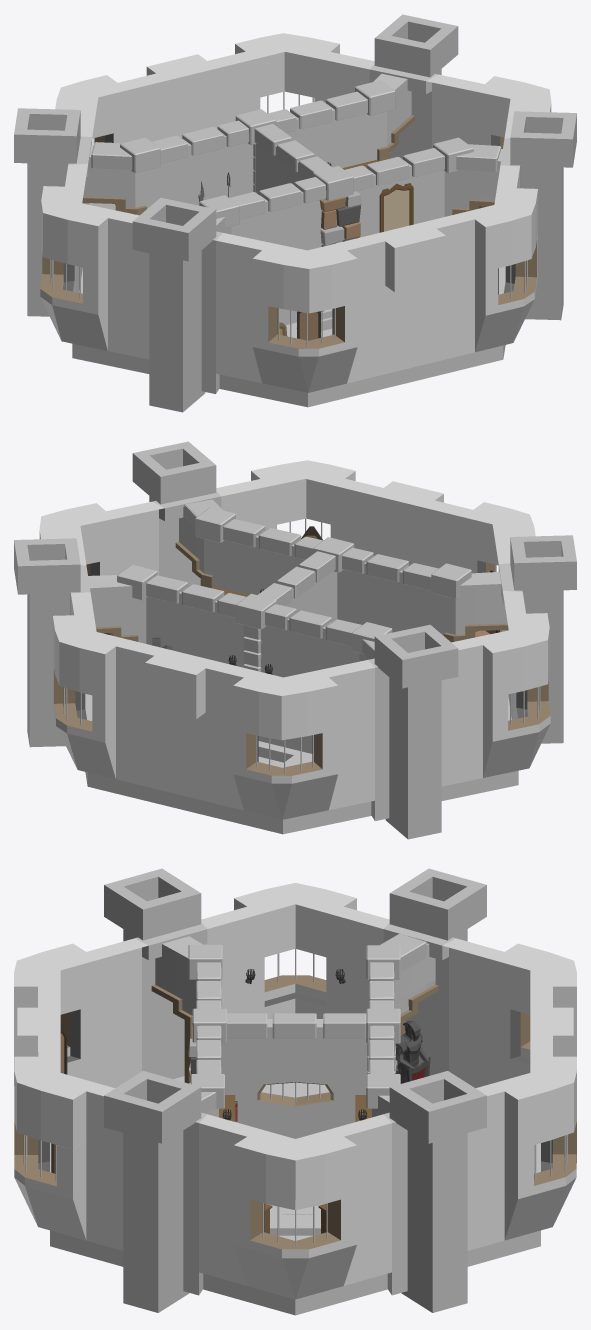
File: firstfloor.fbx
3 renders of one model, top to bottom at view 1: azimuth 30°, elevation 25°; view 2: azimuth 150°, elevation 25°; view 3: azimuth 270°, elevation 25°, orthographic. The views are drawn at different scales.
Parts seen in each view (by area): view 1: firstfloor, walllvl4, walllvl6, walllvl5, walllvl3; view 2: firstfloor, walllvl6, walllvl4, walllvl5, walllvl3; view 3: firstfloor, walllvl6, walllvl4, walllvl3, walllvl5.
Part boxes in pixels (left/top/right/bottom): firstfloor: left=14, top=14, right=576, bottom=412; walllvl4: left=216, top=165, right=537, bottom=392; walllvl6: left=55, top=33, right=374, bottom=210; walllvl5: left=40, top=163, right=149, bottom=359; walllvl3: left=426, top=74, right=551, bottom=148; firstfloor: left=14, top=441, right=576, bottom=839; walllvl6: left=53, top=592, right=374, bottom=819; walllvl4: left=216, top=460, right=535, bottom=632; walllvl5: left=441, top=590, right=550, bottom=786; walllvl3: left=39, top=501, right=164, bottom=575; firstfloor: left=50, top=868, right=540, bottom=1315; walllvl6: left=443, top=938, right=576, bottom=1250; walllvl4: left=14, top=938, right=147, bottom=1250; walllvl3: left=199, top=1114, right=391, bottom=1299; walllvl5: left=201, top=883, right=389, bottom=1018.
Bounding box in the file's own units: 280 × 98.6 × 240.
